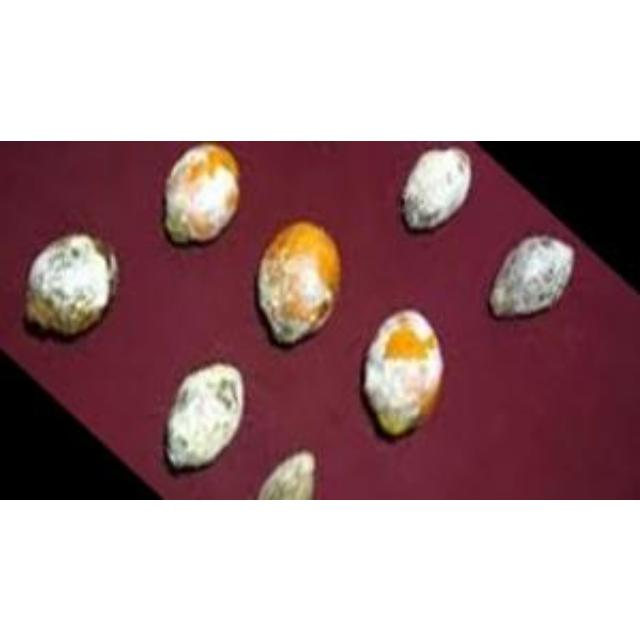damaged: (361, 307, 447, 437), (255, 218, 342, 344), (22, 231, 118, 337), (164, 360, 246, 470), (162, 141, 242, 245), (487, 231, 578, 319), (399, 144, 471, 232), (256, 450, 316, 500)
